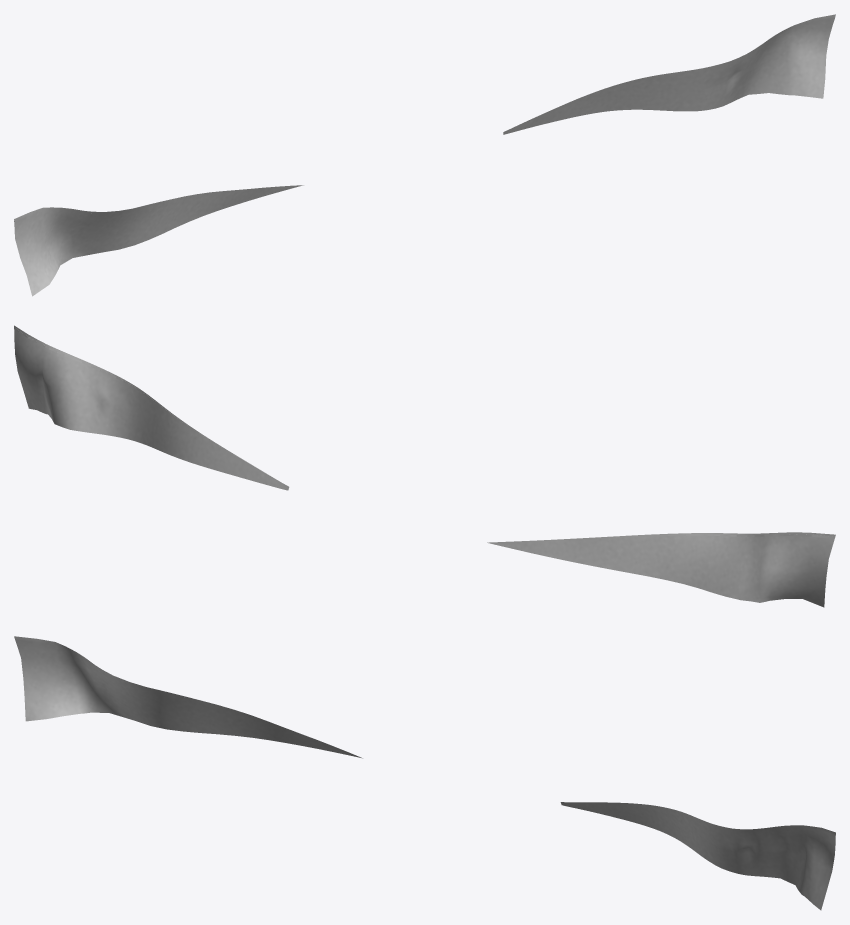
File: COP_Spine_V2.glb
3 views of the same model, one above another, from view 1: azimuth 30°, elevation 25°; view 2: azimuth 150°, elevation 25°; view 3: azimuth 330°, elevation 25° (orthographic).
Parts seen in each view (by area): view 1: COP_Spine_V21; view 2: COP_Spine_V21, Rope1; view 3: COP_Spine_V21.
Boxes of the visible parts, box(x1,y1,x2,y2) form: COP_Spine_V21: box(14, 14, 835, 296); COP_Spine_V21: box(14, 325, 835, 607); Rope1: box(14, 327, 835, 541); COP_Spine_V21: box(14, 636, 835, 910).
Size of the model in its own units: 0.6641 by 0.0659 by 0.045.
Materials: 2 (2 with a texture image).
